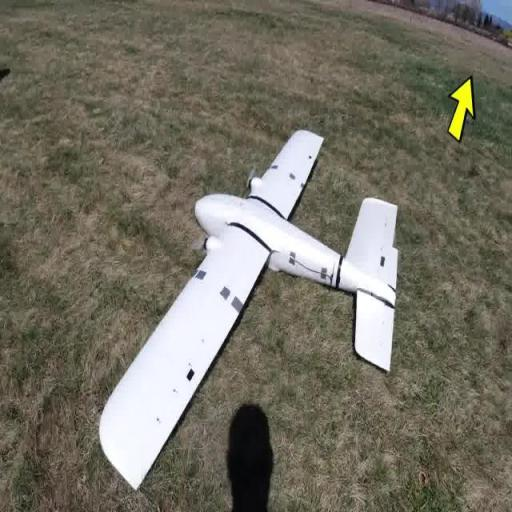uav: (94, 100, 407, 486)
